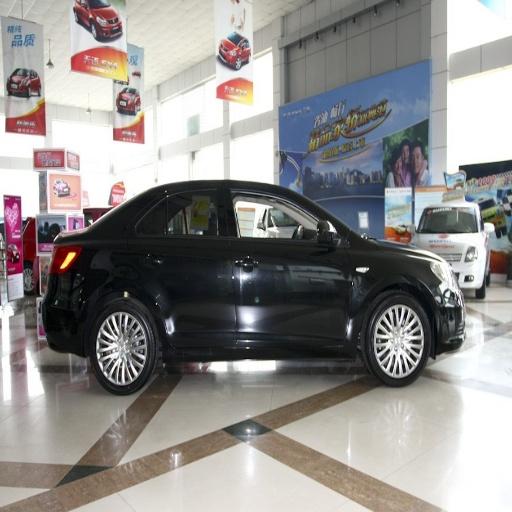back_right_door: (130, 185, 234, 344)
front_right_door: (230, 184, 351, 336)
